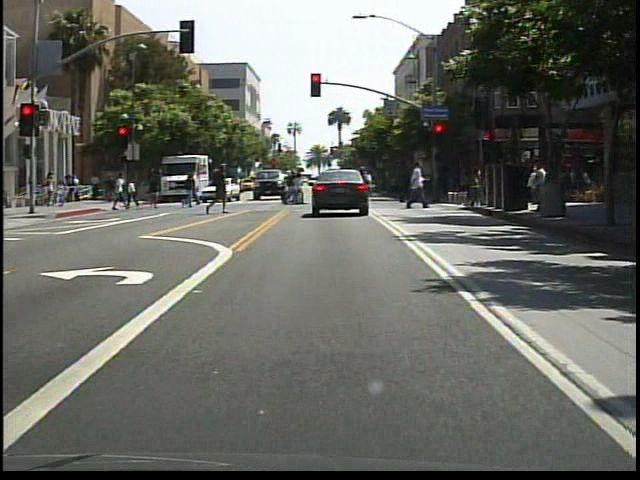person: (207, 163, 233, 219), (403, 159, 429, 211), (323, 168, 344, 214), (179, 172, 200, 213), (112, 172, 131, 217)
